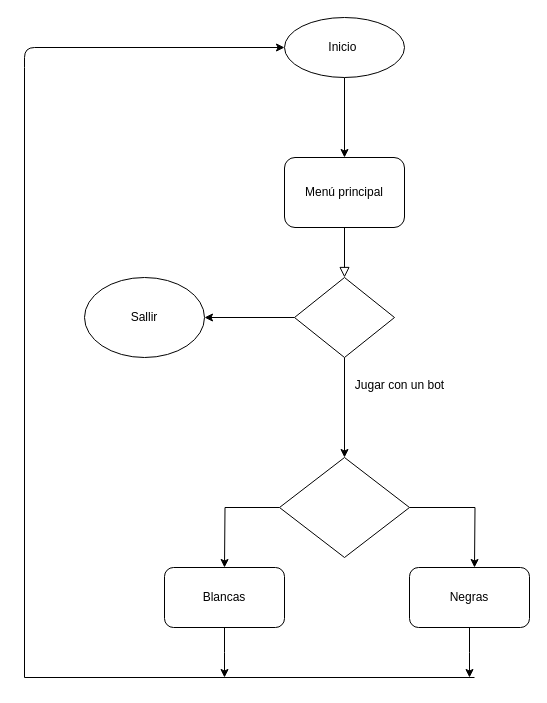
Image size: 547x703. Some labels were removed from this diagram. The box of each missing label's shape, as (x1, y1, x2, y2) in pixels:
¿Con que color desea jugar?: (278, 456, 410, 558)
¿Qué desea hacer?: (294, 276, 394, 358)
